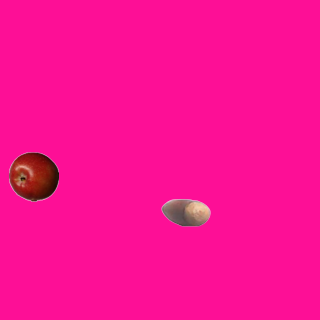Apple Braeburn: (8, 151, 58, 201)
Hazelnut: (160, 187, 210, 237)
